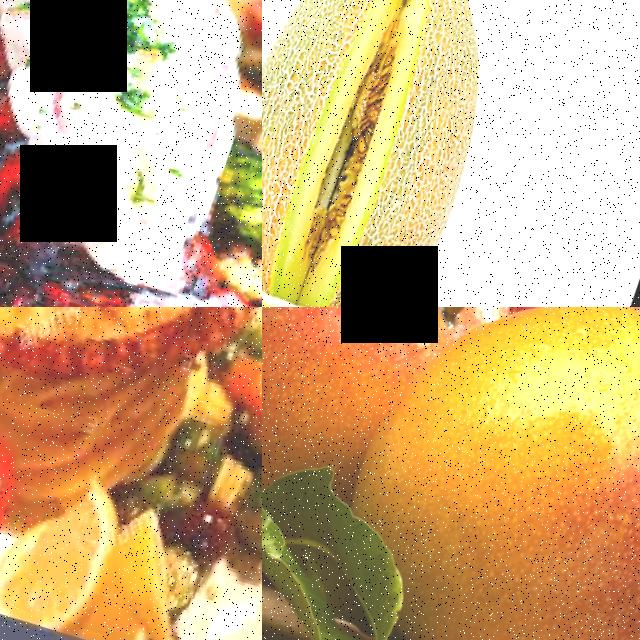lobster tails: (0, 0, 262, 307)
mango: (401, 307, 640, 640), (262, 307, 480, 524)
melon: (262, 0, 537, 296), (262, 203, 461, 307)
